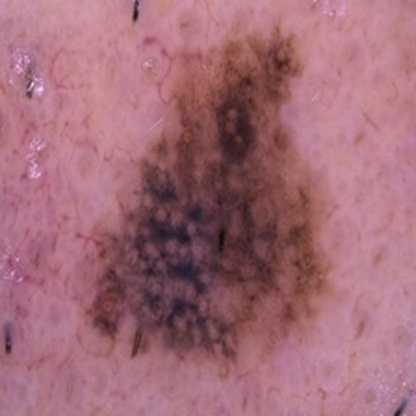malignant: (114, 62, 313, 333)
